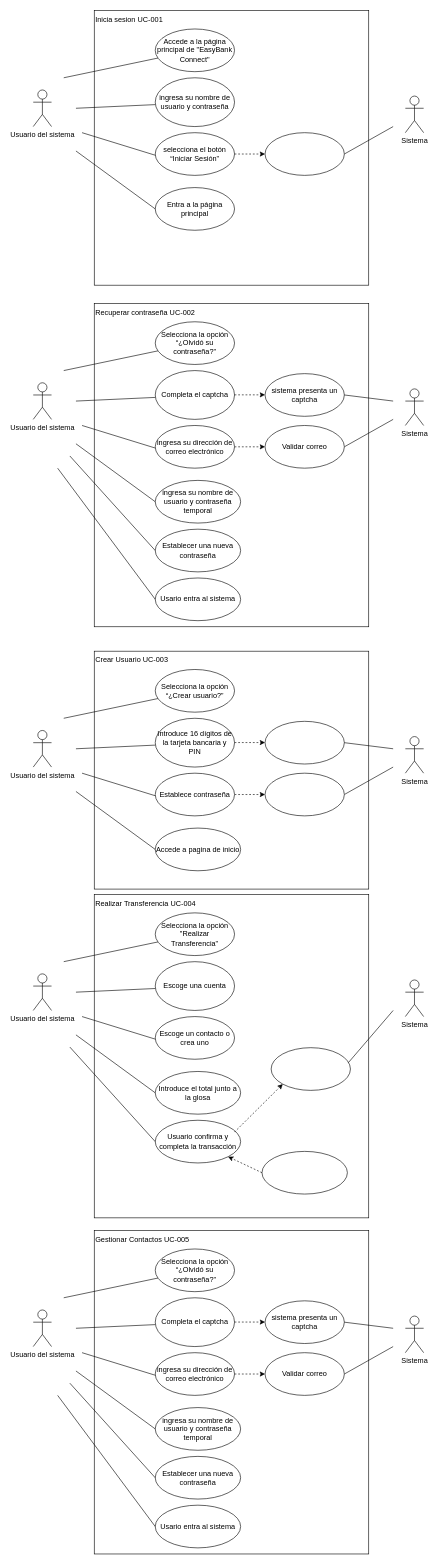
Some shapes in this 438 by 1565 pixel diagram are drawn without their labels. The shapes that lost their labels are listed below. From the top down, each one's box as (x1, y1, x2, y2) in pixels, then its label:
(264, 132, 344, 175): Validar credenciales
(264, 721, 344, 764): Valida tarjeta
(264, 773, 344, 816): Confirmación de creación de cuenta
(271, 1047, 350, 1090): Genera una boucher
(261, 1151, 347, 1194): Comparte o guarda el boucher
